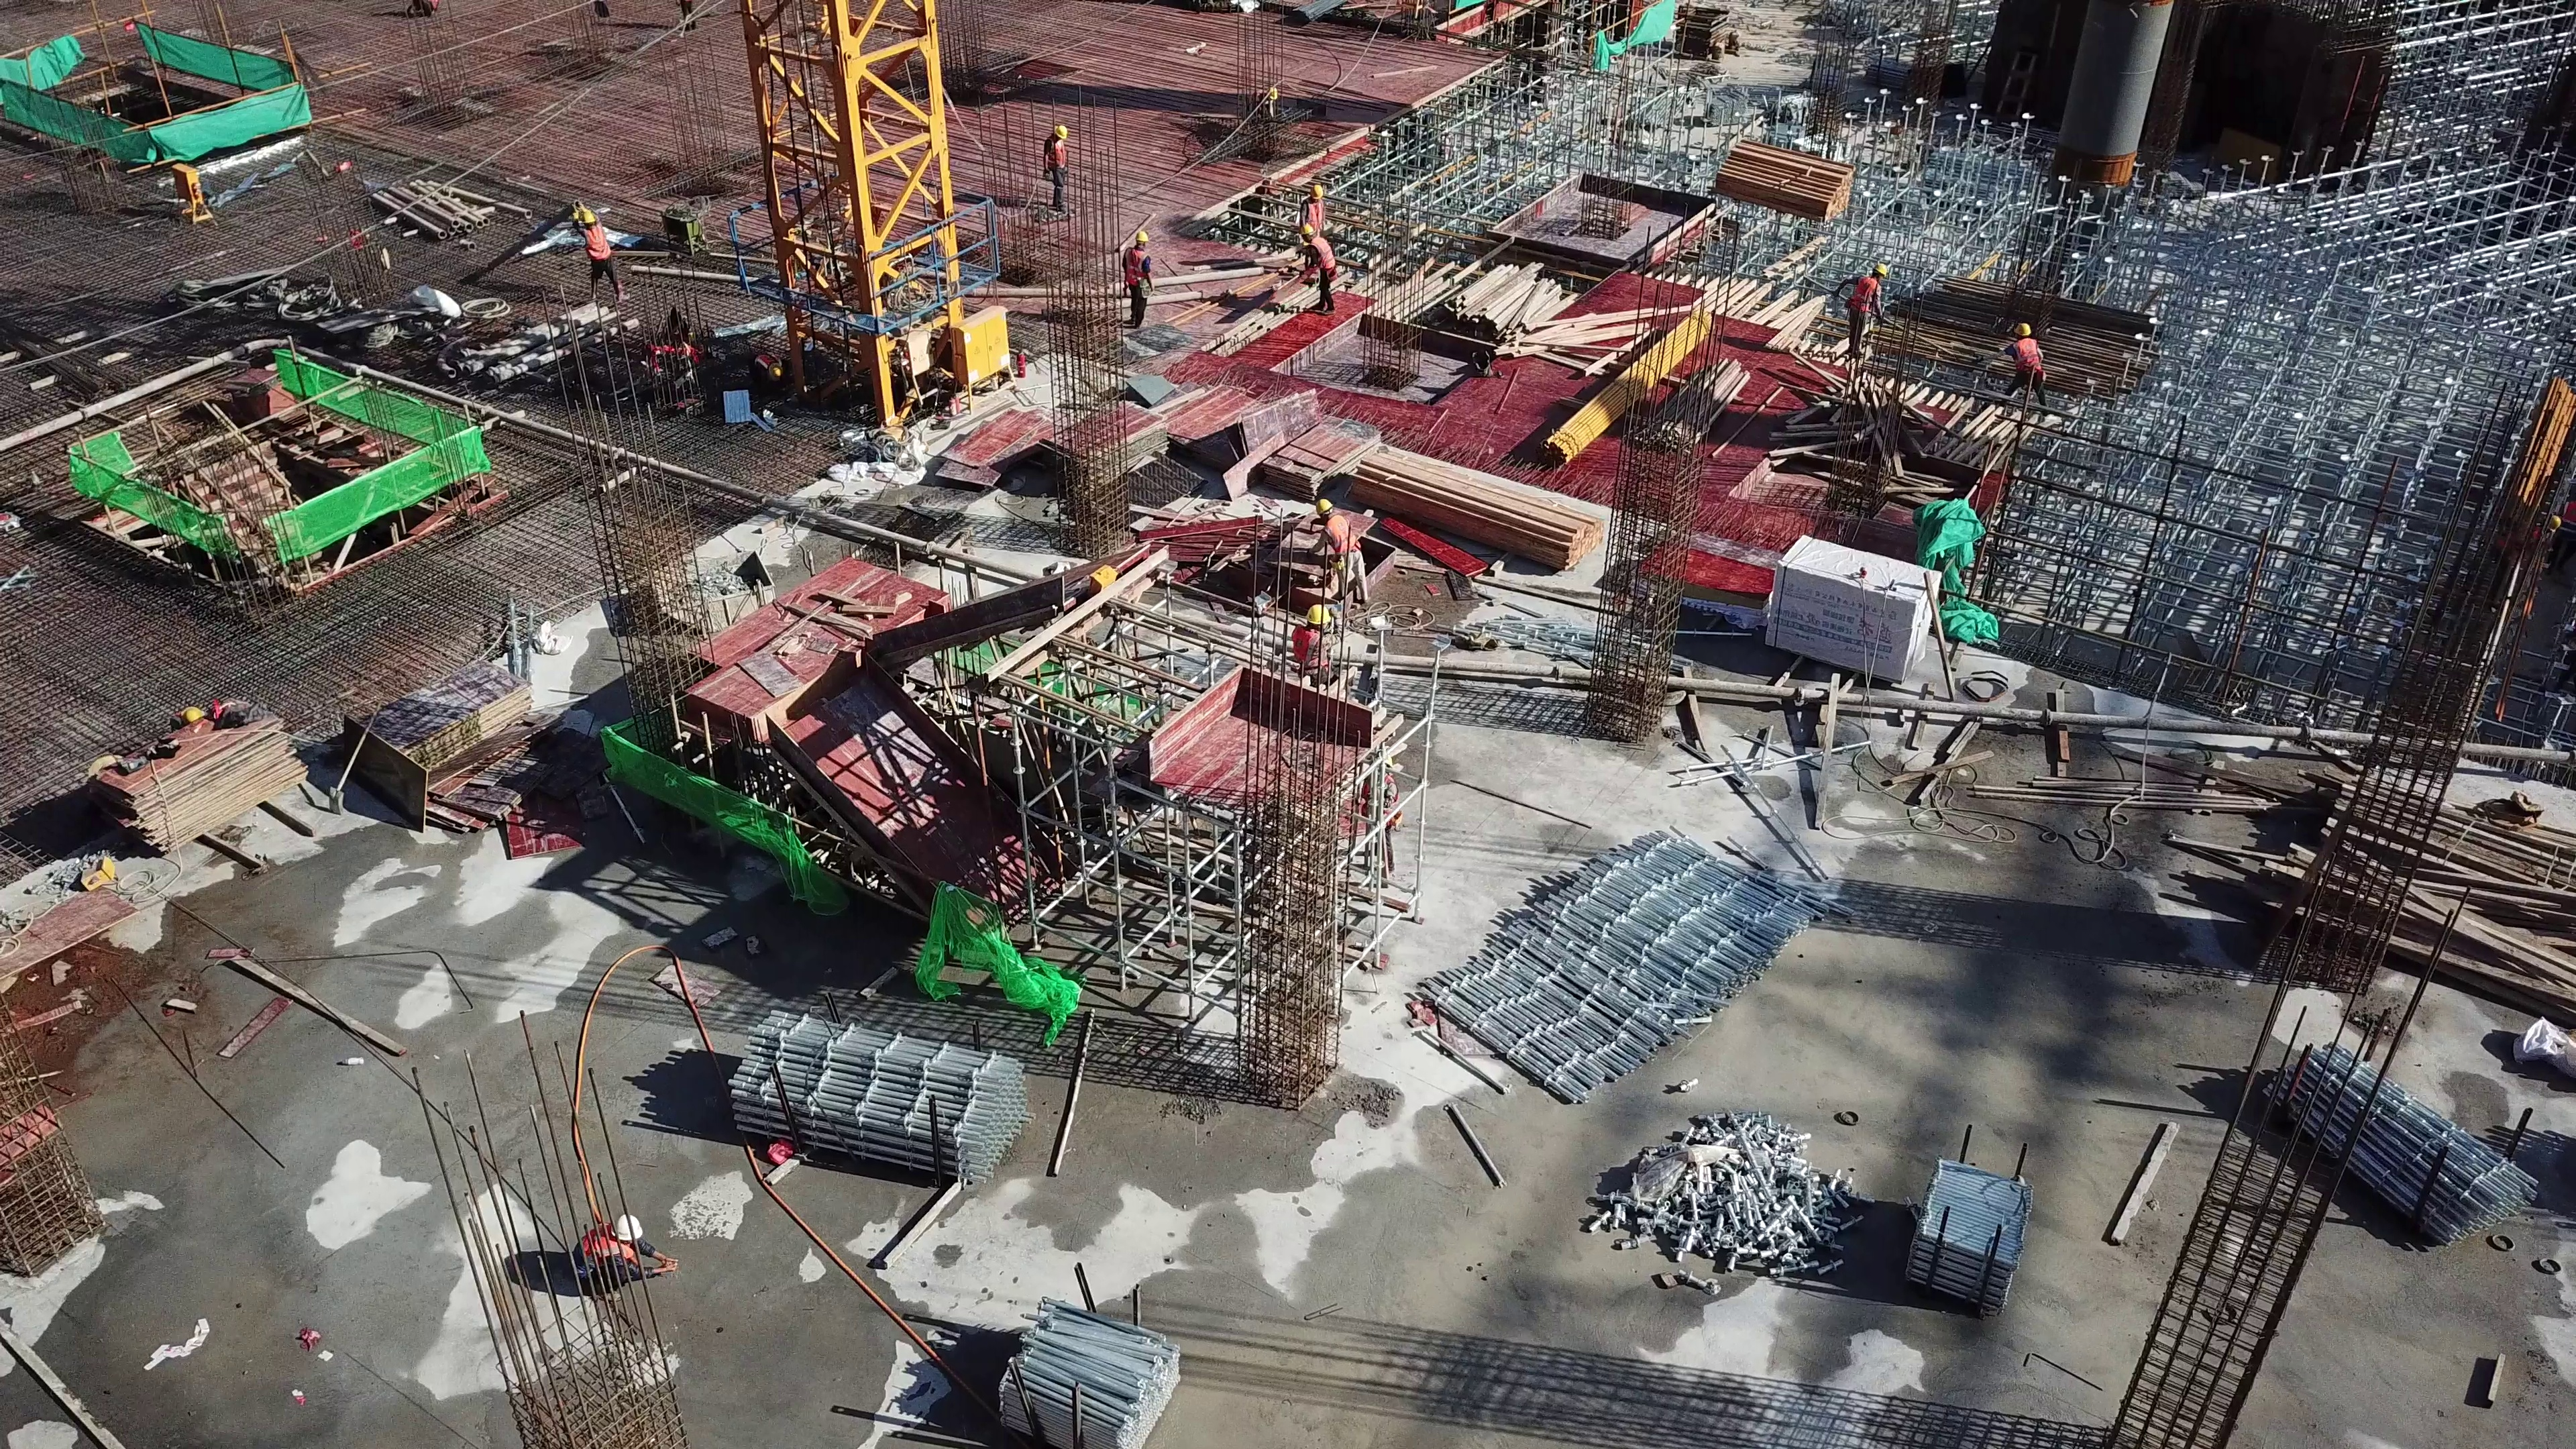board: (341, 654, 533, 833), (105, 707, 303, 847)
person: (569, 1205, 671, 1299), (1312, 494, 1383, 604), (572, 208, 627, 305), (1843, 264, 1892, 366), (2004, 313, 2056, 403), (1038, 121, 1082, 214), (1120, 237, 1161, 333), (1286, 608, 1342, 675), (1307, 219, 1338, 301), (1297, 179, 1333, 243)
scaffold: (1405, 820, 1823, 1112), (2269, 1045, 2546, 1261), (714, 1010, 1029, 1176), (989, 1293, 1197, 1449), (1896, 1159, 2045, 1331)
wood: (2269, 774, 2576, 1016), (1347, 441, 1595, 593), (1409, 255, 1613, 360)
